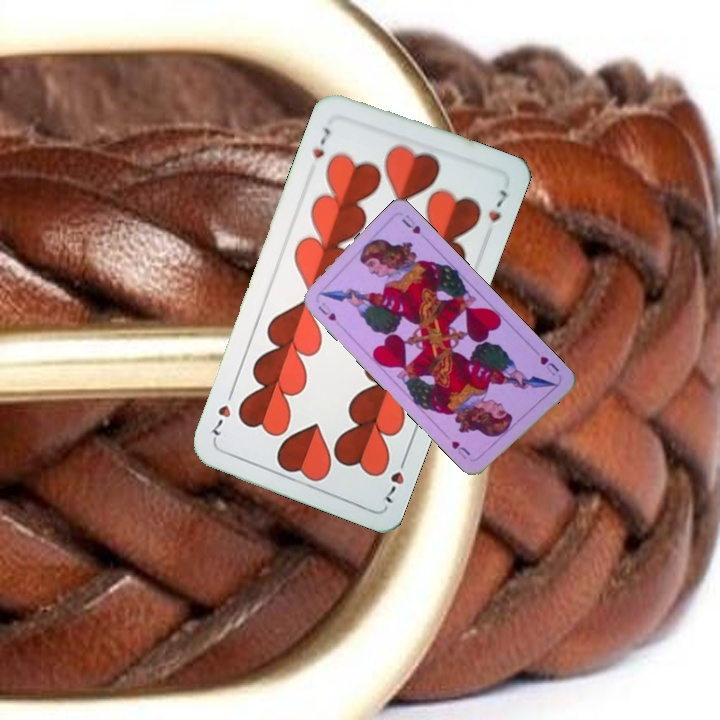H7: (381, 451, 410, 506), (308, 123, 334, 161)
HU: (536, 352, 562, 379), (314, 301, 339, 324)
